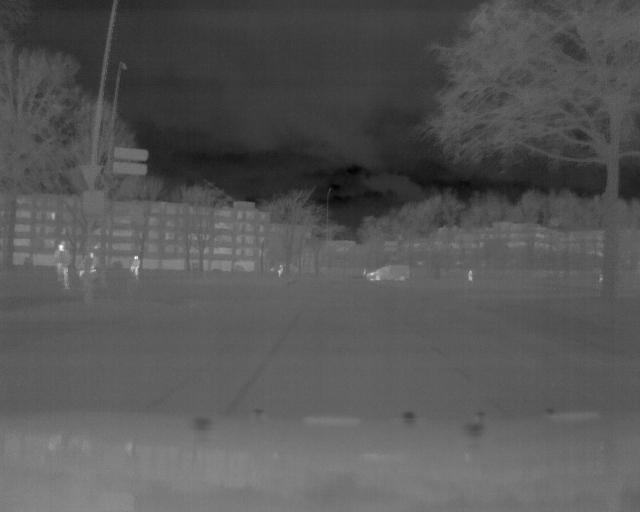car: (363, 263, 411, 284)
person: (52, 242, 72, 291), (130, 254, 142, 282)
